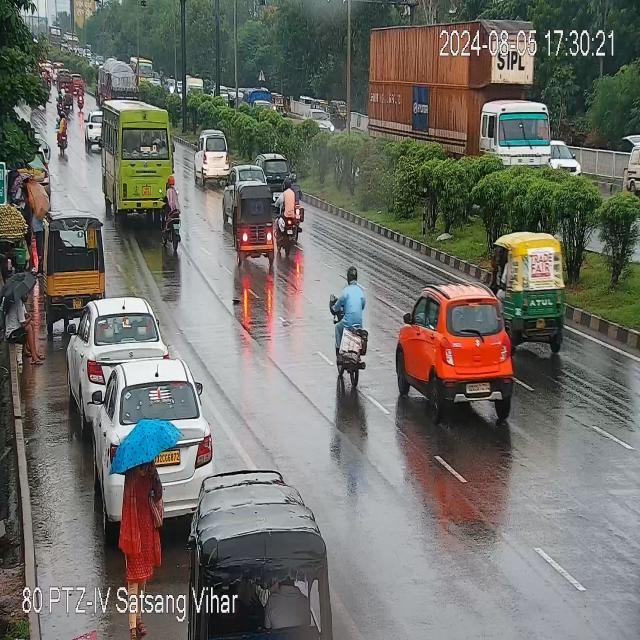2-wheelers: (329, 267, 368, 392), (279, 180, 302, 247), (56, 116, 67, 162), (56, 92, 71, 115), (76, 76, 85, 114)
auto: (500, 232, 568, 333)
bus: (101, 100, 175, 217)
car: (76, 348, 216, 488), (67, 297, 170, 423), (198, 130, 232, 186), (256, 153, 296, 193), (229, 166, 269, 192), (550, 144, 582, 175), (84, 109, 104, 152)
pedestrian: (119, 454, 167, 640), (3, 262, 44, 365), (14, 148, 51, 260)
truck: (358, 10, 553, 166), (396, 279, 516, 429), (44, 212, 106, 338), (227, 185, 278, 273), (100, 59, 139, 101)
